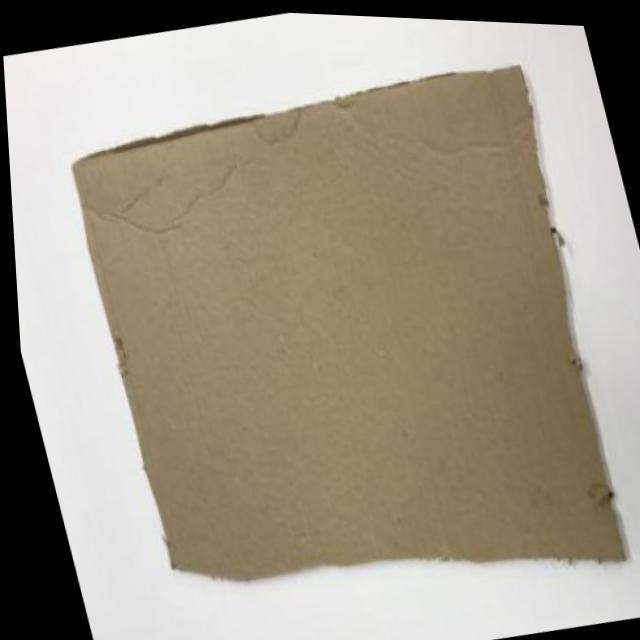box: (44, 29, 640, 640)
